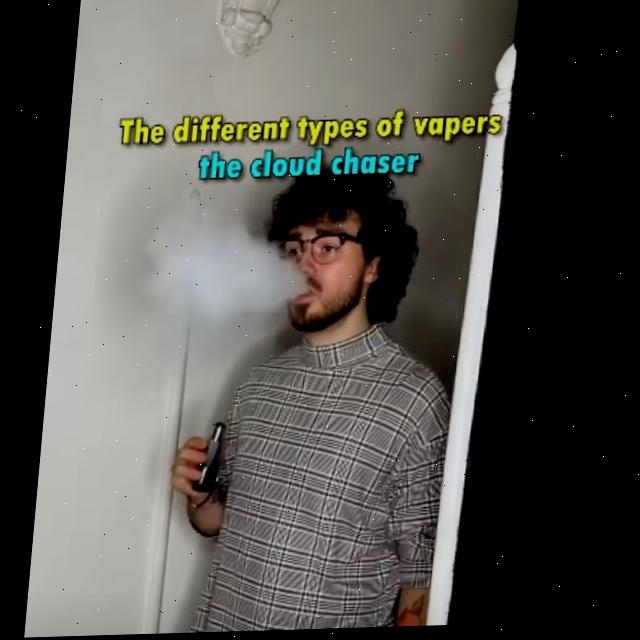vape: (203, 425, 232, 493)
